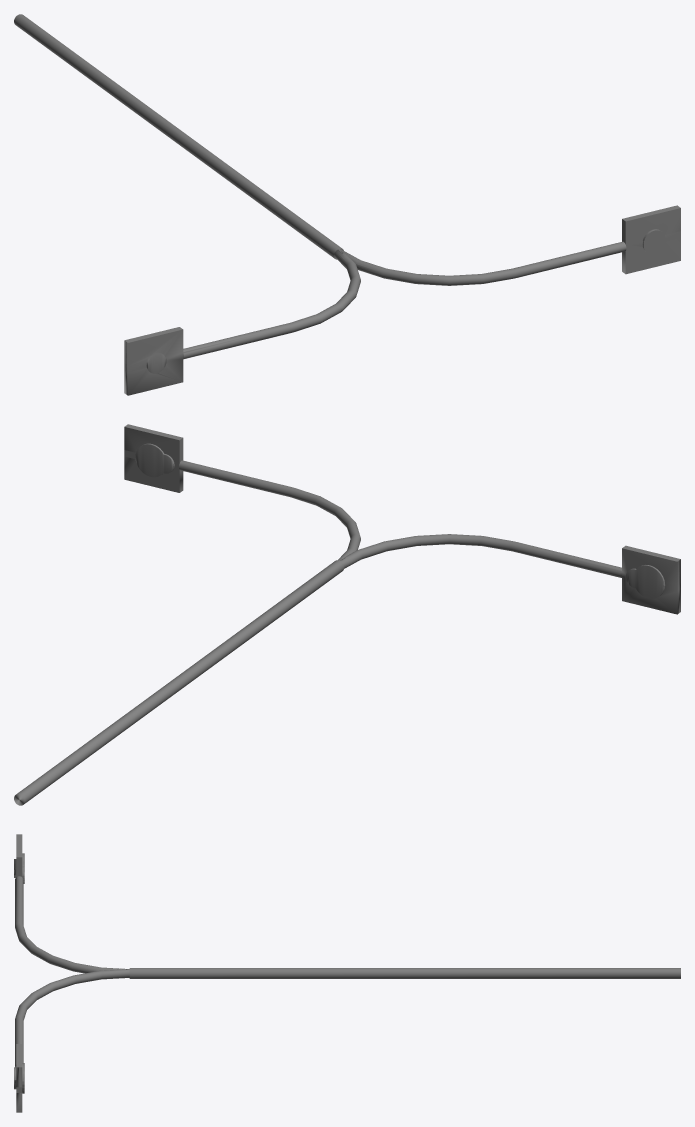
File: street_lamp_two.glb
The picture shows the model from 3 angles, top to bottom: view 1: azimuth 30°, elevation 25°; view 2: azimuth 150°, elevation 25°; view 3: azimuth 270°, elevation 25°; orthographic projection. The views are drawn at different scales.
Visible parts, largest first — view 1: node_id27; view 2: node_id27; view 3: node_id27.
Part boxes in pixels (bbox=[...]): node_id27: bbox=[14, 14, 680, 395]; node_id27: bbox=[14, 424, 680, 805]; node_id27: bbox=[14, 834, 680, 1112].
Size of the model in its own units: 0.512 by 0.0468 by 0.6193.
Materials: 1 (1 with a texture image).
